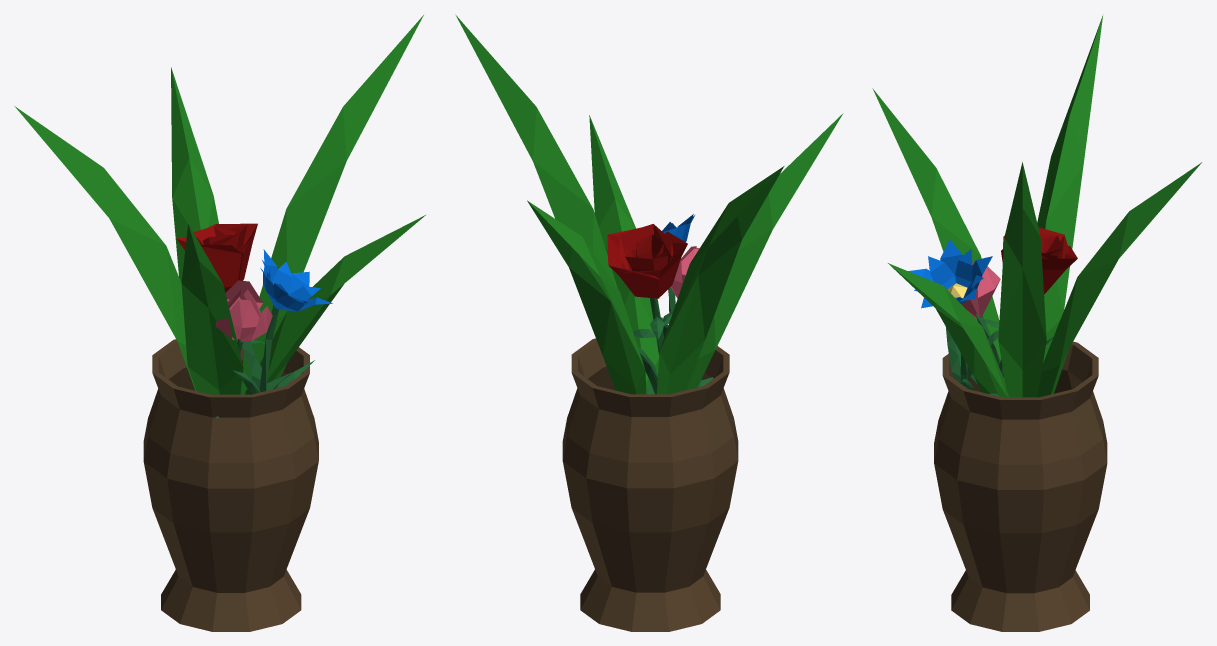
The model's file is Vase.obj.
The picture shows the model from 3 angles, left to right: view 1: azimuth 30°, elevation 25°; view 2: azimuth 150°, elevation 25°; view 3: azimuth 270°, elevation 25°; orthographic projection.
Visible parts, largest first — view 1: mergedBlocks; view 2: mergedBlocks; view 3: mergedBlocks.
Boxes of the visible parts, x1,y1,x2,y2 form: mergedBlocks: [14, 15, 425, 631]; mergedBlocks: [455, 14, 843, 631]; mergedBlocks: [872, 14, 1201, 631].
Bounding box in the file's own units: 0.6091 × 0.8506 × 0.4764.
